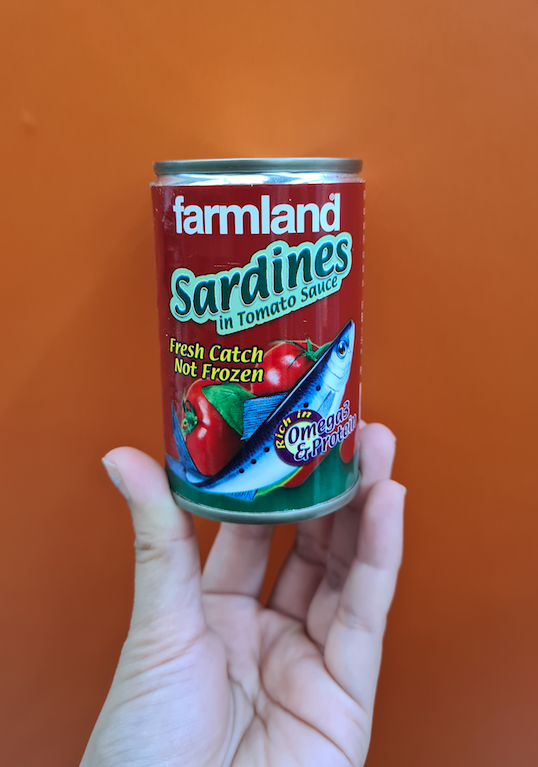Canned_Sardines_and_Mackerel: (159, 165, 359, 503)
